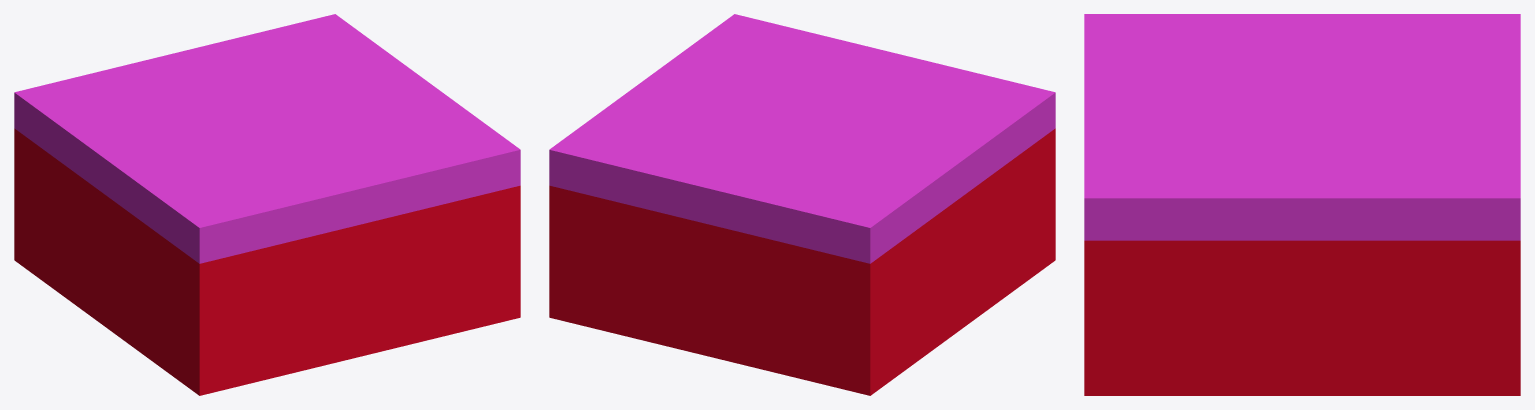
File: ehh.fbx
3 views of the same model, side by side, from view 1: azimuth 30°, elevation 25°; view 2: azimuth 150°, elevation 25°; view 3: azimuth 270°, elevation 25° (orthographic). The views are drawn at different scales.
Parts seen in each view (by area): view 1: Cube; view 2: Cube; view 3: Cube.
Part boxes in pixels (box(x1,y1,x2,y2)): Cube: box(14, 14, 520, 395); Cube: box(549, 14, 1055, 395); Cube: box(1084, 14, 1520, 395).
Size of the model in its own units: 200 by 99.93 by 200.
